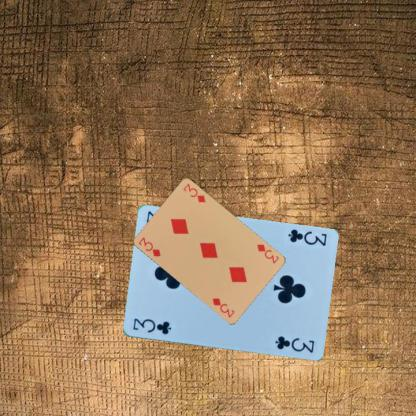3c: (284, 226, 328, 247), (130, 316, 172, 336)
3d: (254, 241, 280, 265), (136, 235, 162, 258)
